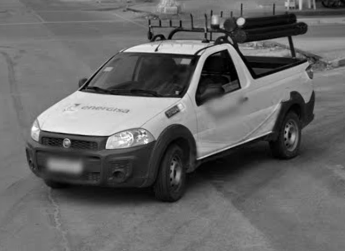car: (26, 2, 321, 204)
